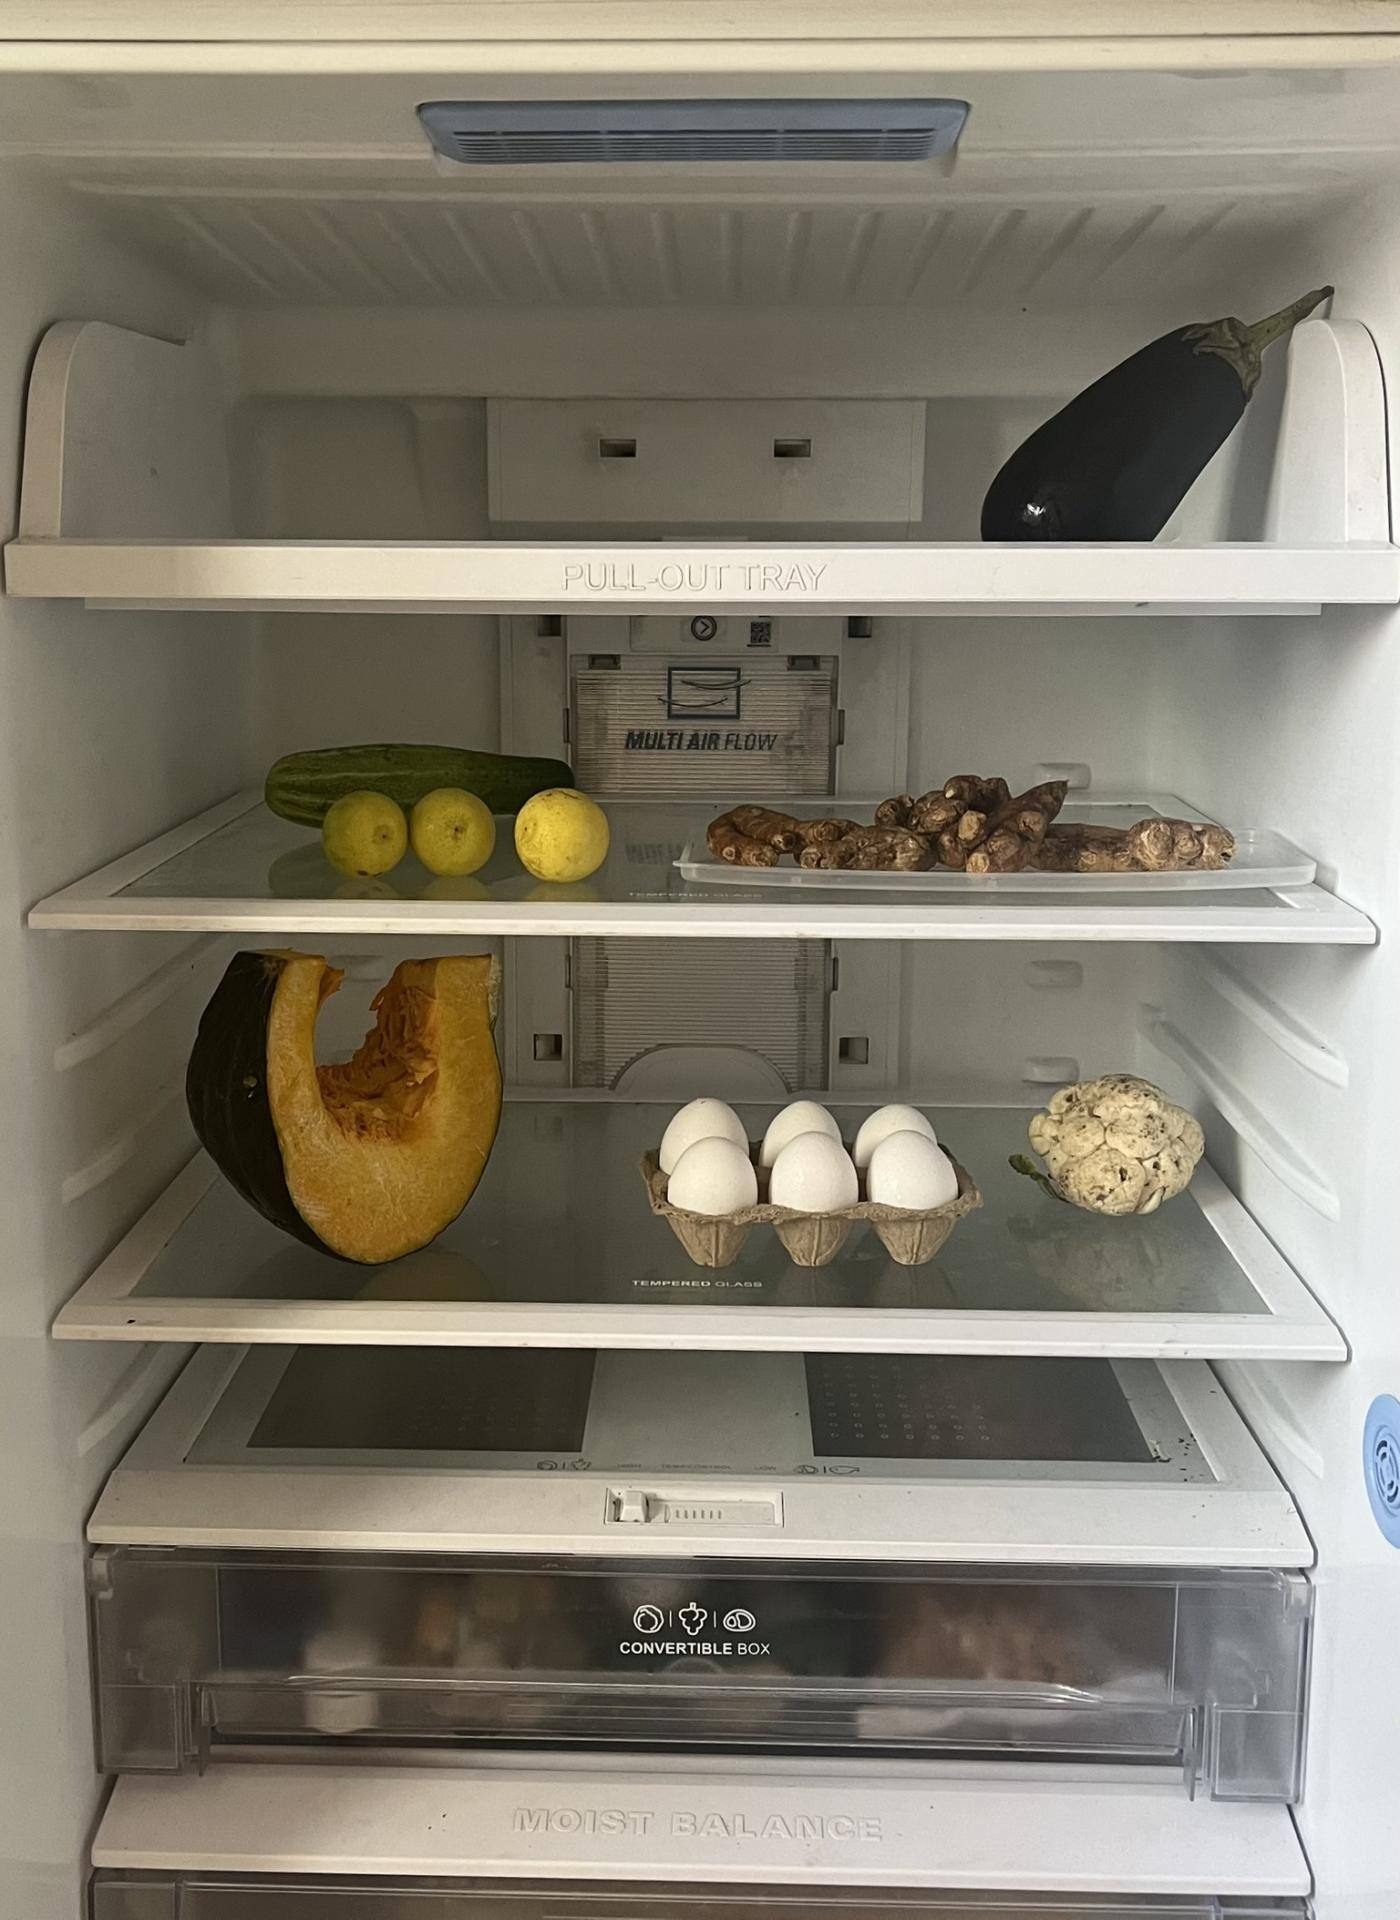brinjal: (959, 279, 1343, 547)
cauliflower: (1023, 1072, 1211, 1215)
cucumber: (268, 744, 573, 820)
egg: (662, 1094, 947, 1215)
ginger: (705, 774, 1224, 880)
lemon: (322, 795, 494, 880), (513, 787, 617, 880)
pumpkin: (183, 944, 507, 1261)
